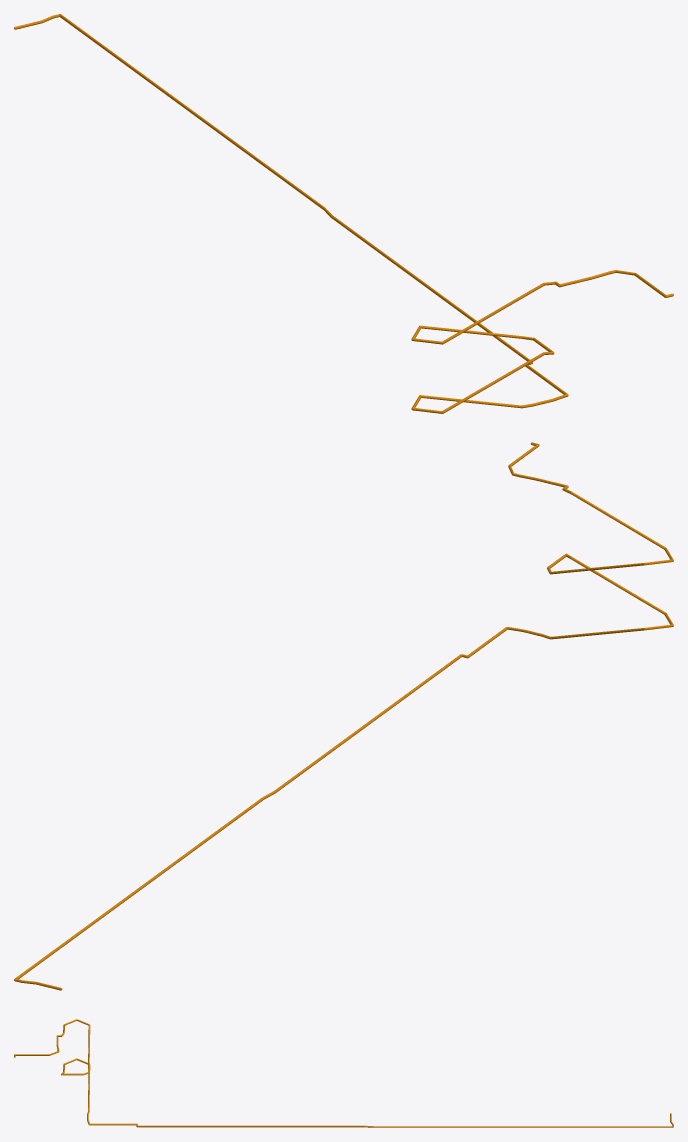
3 renders of one model, top to bottom at view 1: azimuth 30°, elevation 25°; view 2: azimuth 150°, elevation 25°; view 3: azimuth 270°, elevation 25°, orthographic. The views are drawn at different scales.
Bounding box in the file's own units: 1563 × 1020 × 7615.
